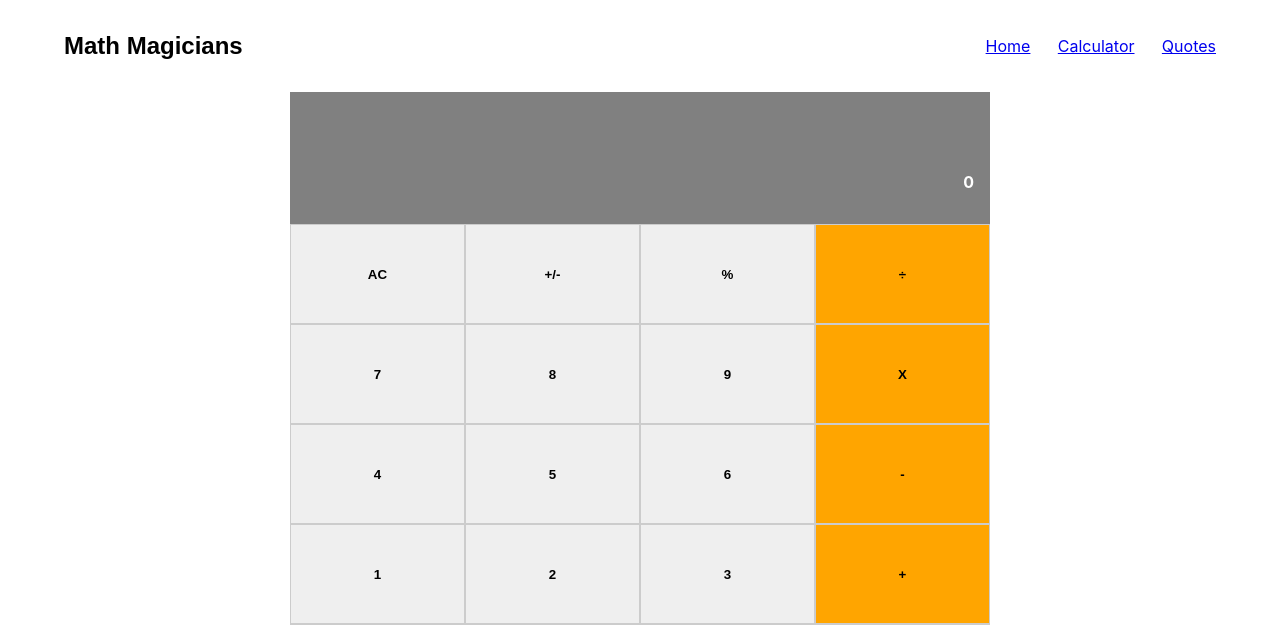
Test case: App Component › Should navigate to the quotes page if "Quotes" tab is clicked
Click the link "Quotes" at (1189,46), box x1=1162 y1=36 x2=1216 y2=56
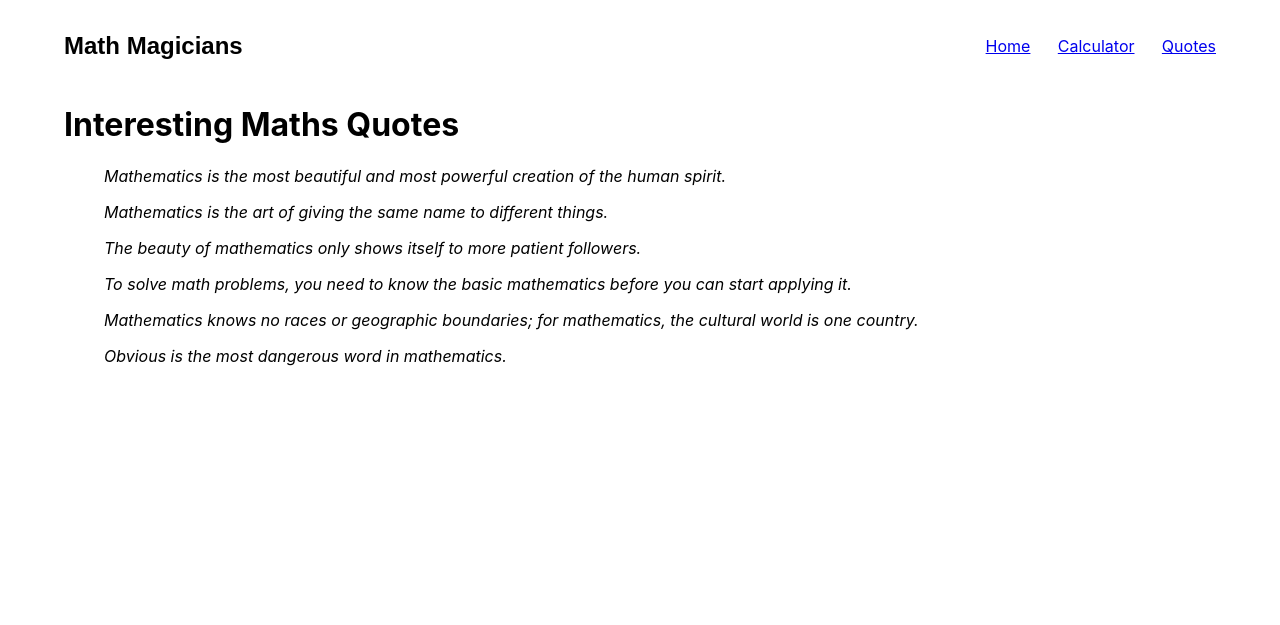
Expected: the heading "Interesting Maths Quotes" is shown, x1=64 y1=105 x2=459 y2=144
